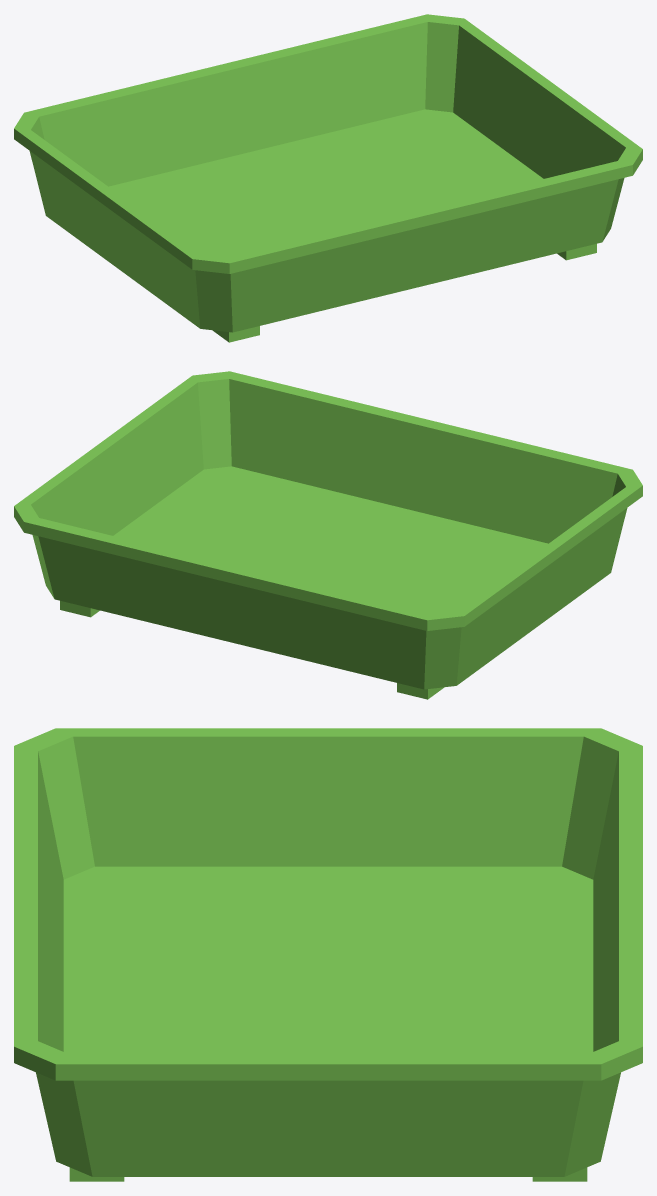
The model's file is SM_Cook_HerbTray_Green_01.glb.
3 views of the same model, one above another, from view 1: azimuth 30°, elevation 25°; view 2: azimuth 150°, elevation 25°; view 3: azimuth 270°, elevation 25° (orthographic). The views are drawn at different scales.
Parts seen in each view (by area): view 1: SM_Cook_HerbTray_Green_01; view 2: SM_Cook_HerbTray_Green_01; view 3: SM_Cook_HerbTray_Green_01.
Boxes of the visible parts, x1,y1,x2,y2 form: SM_Cook_HerbTray_Green_01: (14,14,642,342); SM_Cook_HerbTray_Green_01: (14,371,642,699); SM_Cook_HerbTray_Green_01: (14,728,642,1181).
Bounding box in the file's own units: 0.4374 × 0.09 × 0.346.
1 material, 1 textured.
